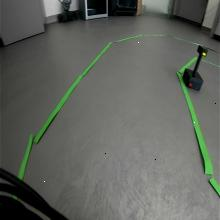green: (198, 46, 208, 58)
